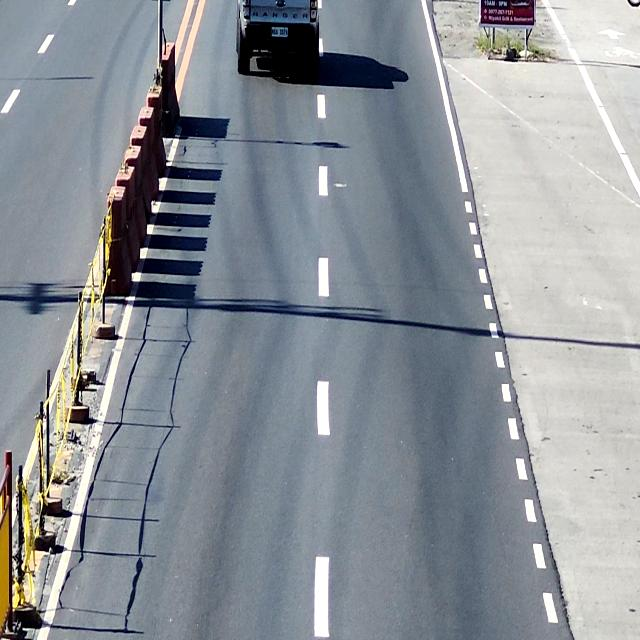Car: (236, 0, 320, 76)
License-Plate: (269, 24, 289, 38)
